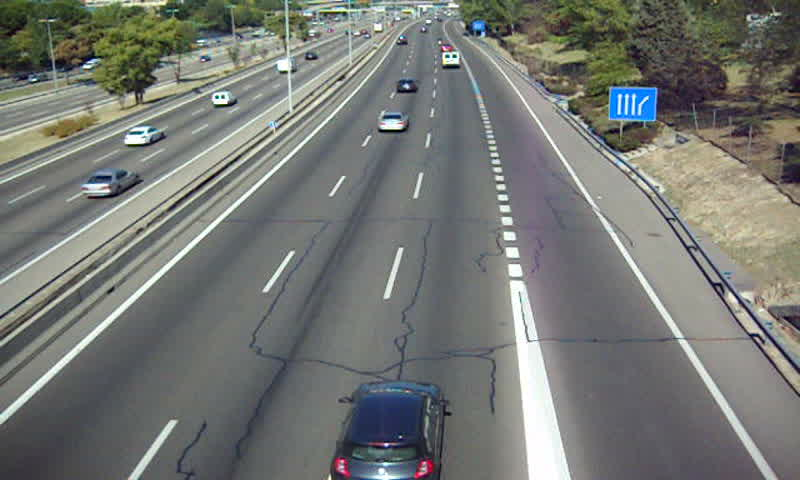car: (334, 380, 446, 480), (377, 110, 409, 133), (398, 78, 417, 94)
van: (442, 51, 460, 68)
